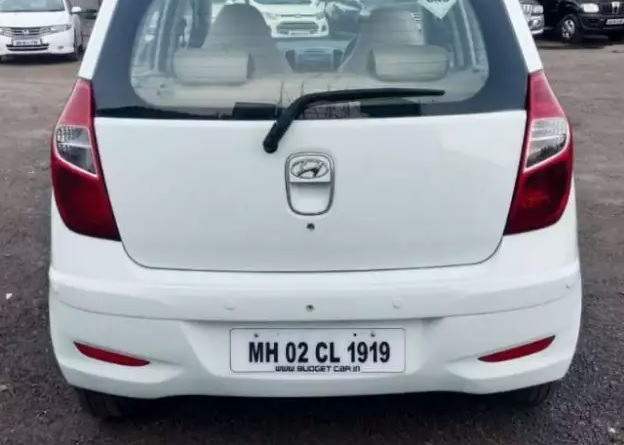licenseplate: (228, 326, 415, 376)
